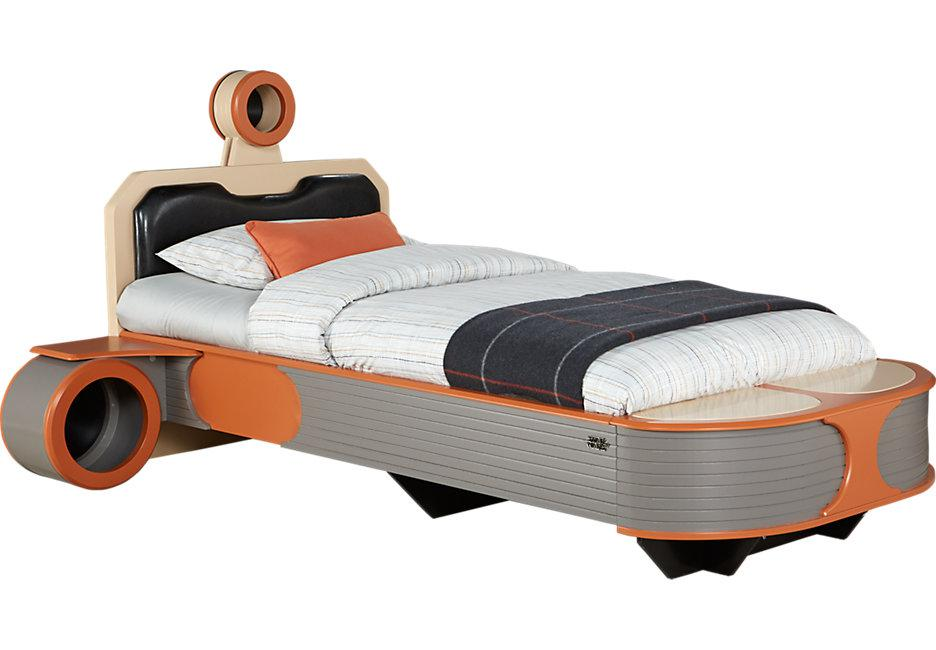bed: (35, 66, 926, 501)
